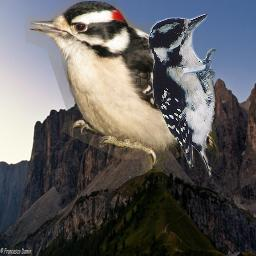Woodpecker: (25, 1, 219, 172), (148, 14, 220, 179)
